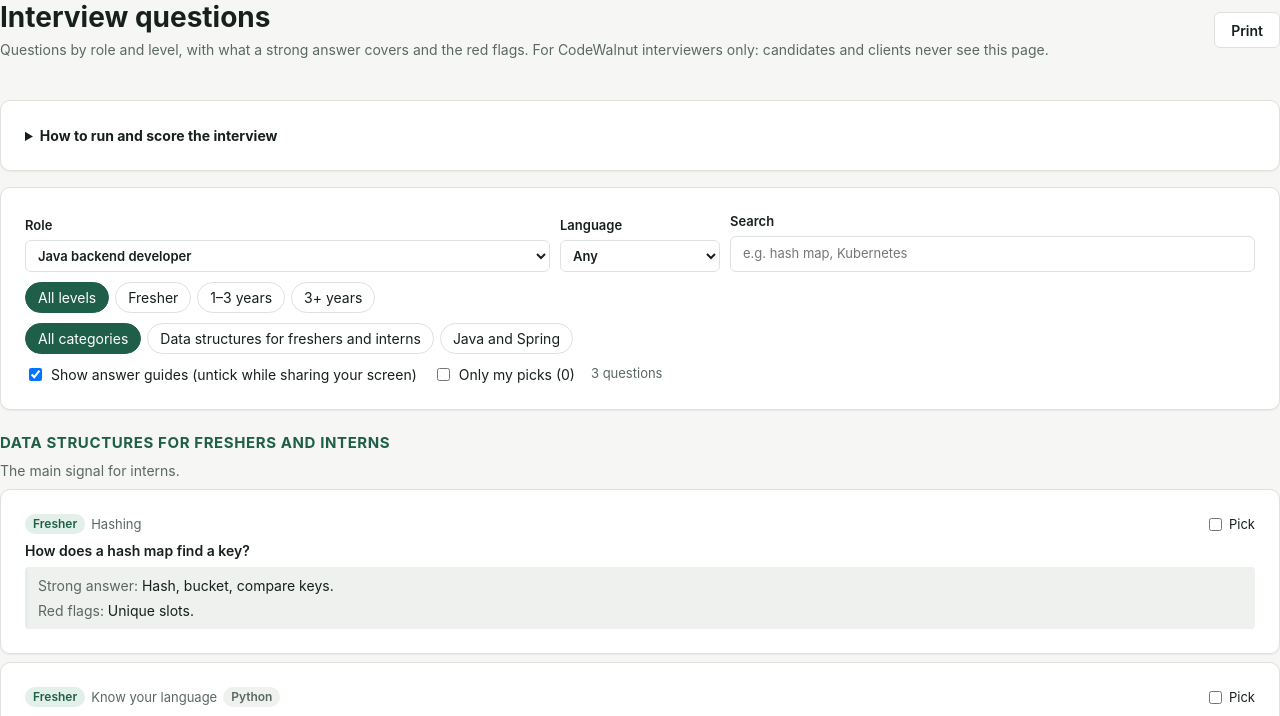
Test: InterviewQuestionsPage (INT-21, INT-22) › filters by role, level and language, hides answer guides and picks questions
Check: the text "How does a hash map find a key?" is shown, box x1=25 y1=542 x2=250 y2=559
Check: the text "Hash, bucket, compare keys." is shown, box x1=142 y1=577 x2=334 y2=594
Step 1. Click the button "Fresher" → [153, 297], box x1=115 y1=282 x2=191 y2=312
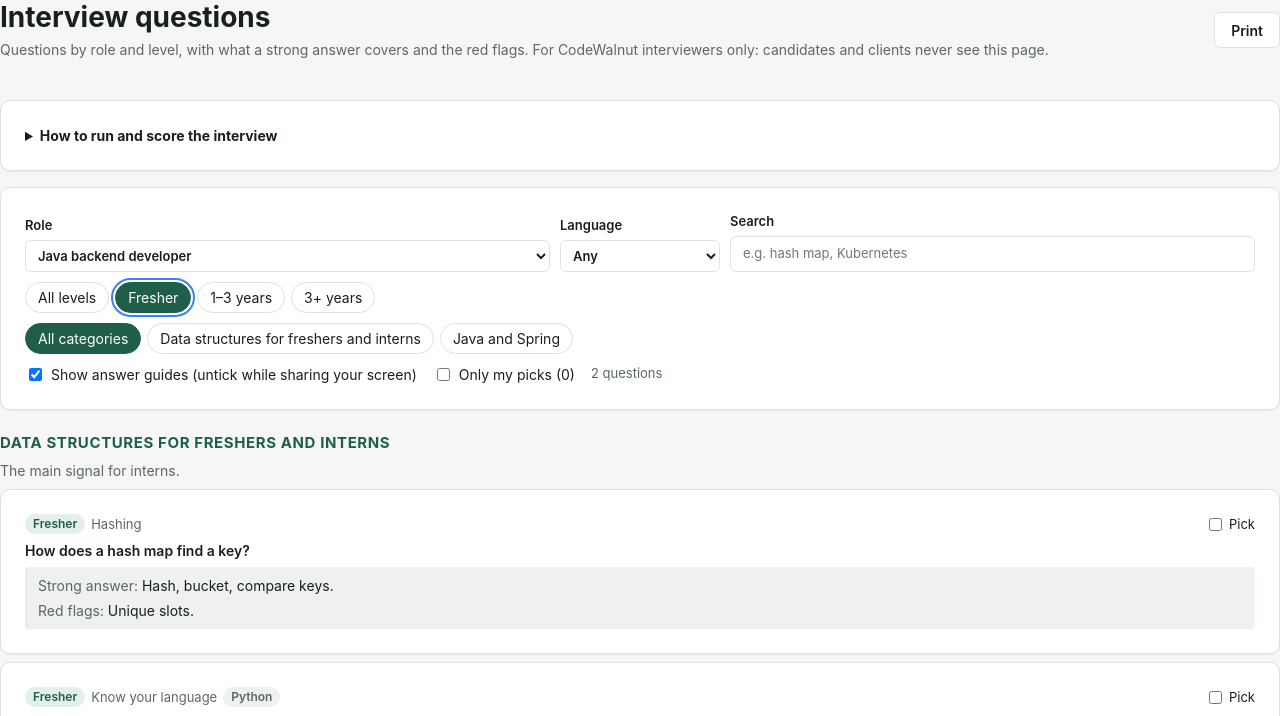
Step 2. Select "Python" in the dropdown labelled "Language" → [640, 256], box x1=560 y1=240 x2=720 y2=272
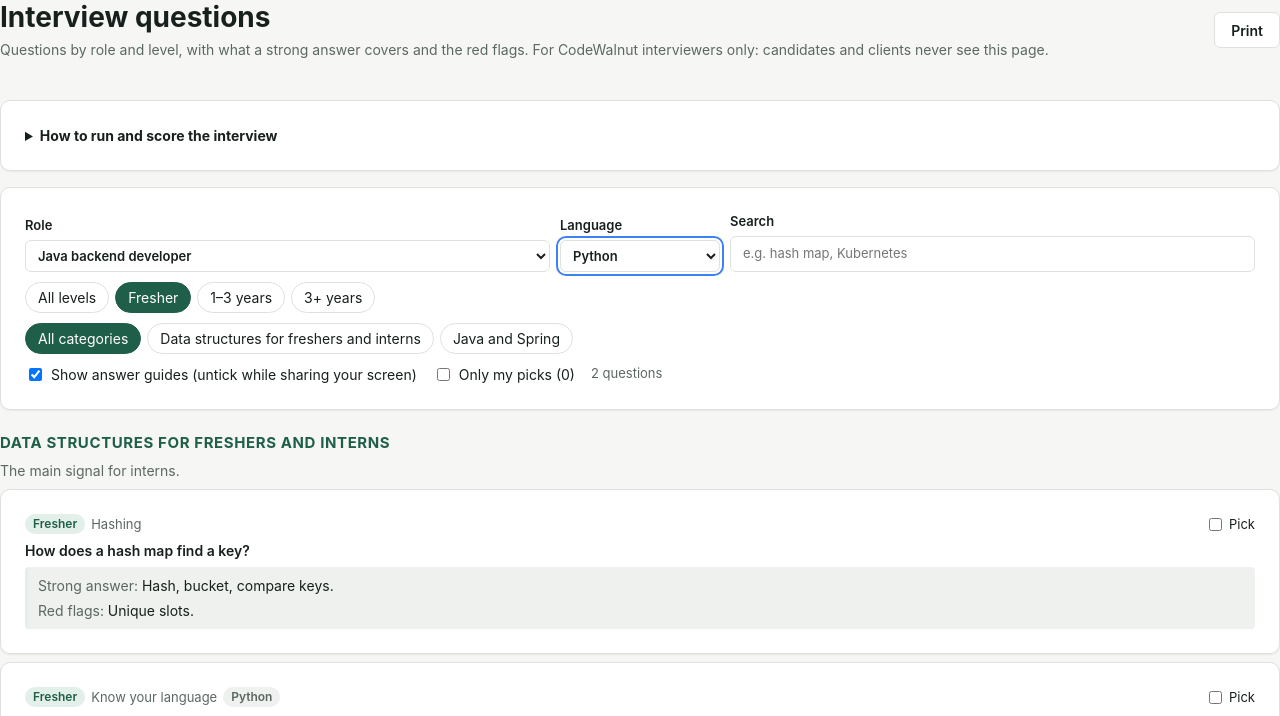
Step 3. Click the checkbox labelled "Show answer guides (untick while sharing your screen)" → [36, 374], box x1=29 y1=368 x2=42 y2=380
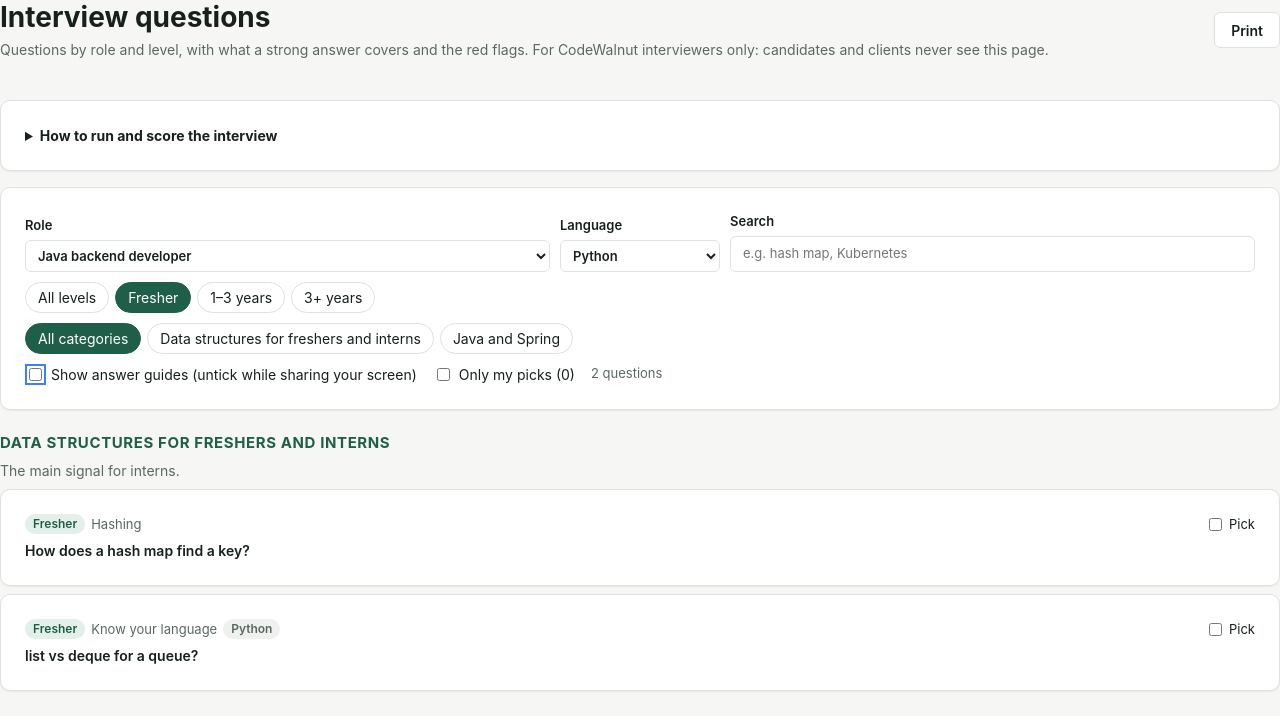
Check: the text "Hash, bucket, compare keys." is gone
Step 4. Click the checkbox named "Pick: list vs deque for a queue?" → [1216, 629], box x1=1209 y1=623 x2=1222 y2=636
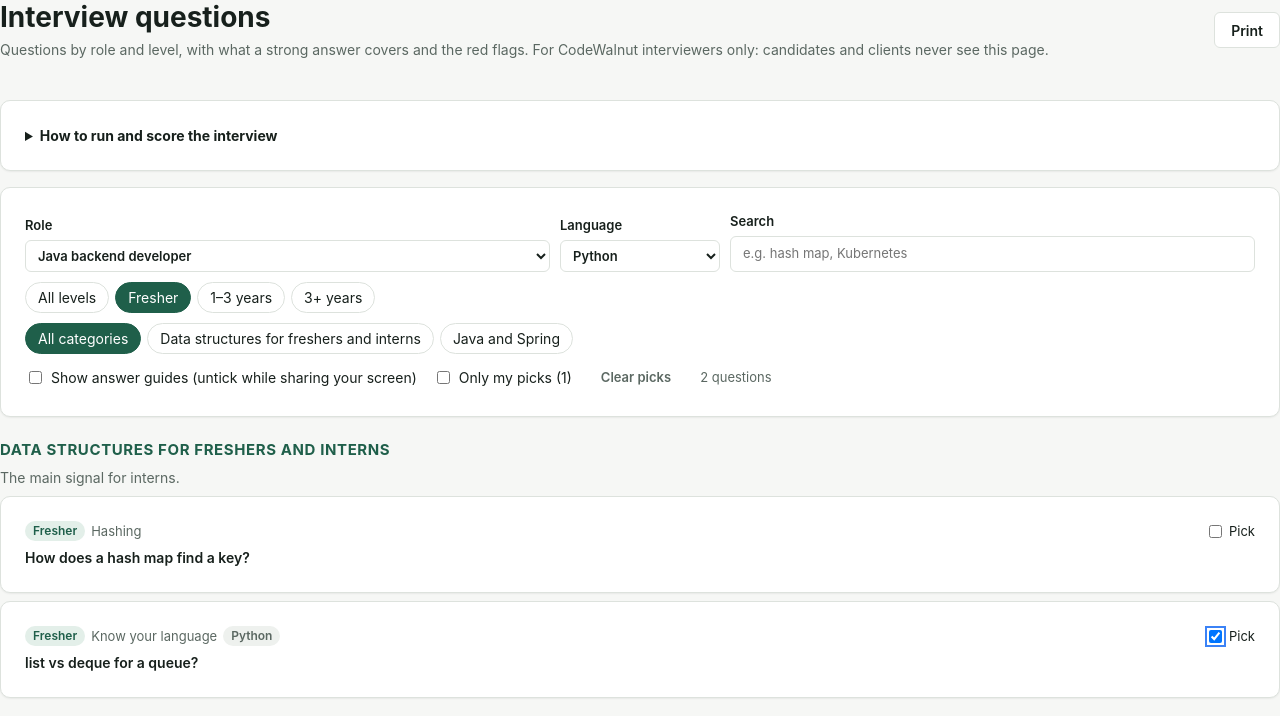
Step 5. Click the checkbox labelled "Only my picks (1)" → [443, 378], box x1=437 y1=371 x2=450 y2=384
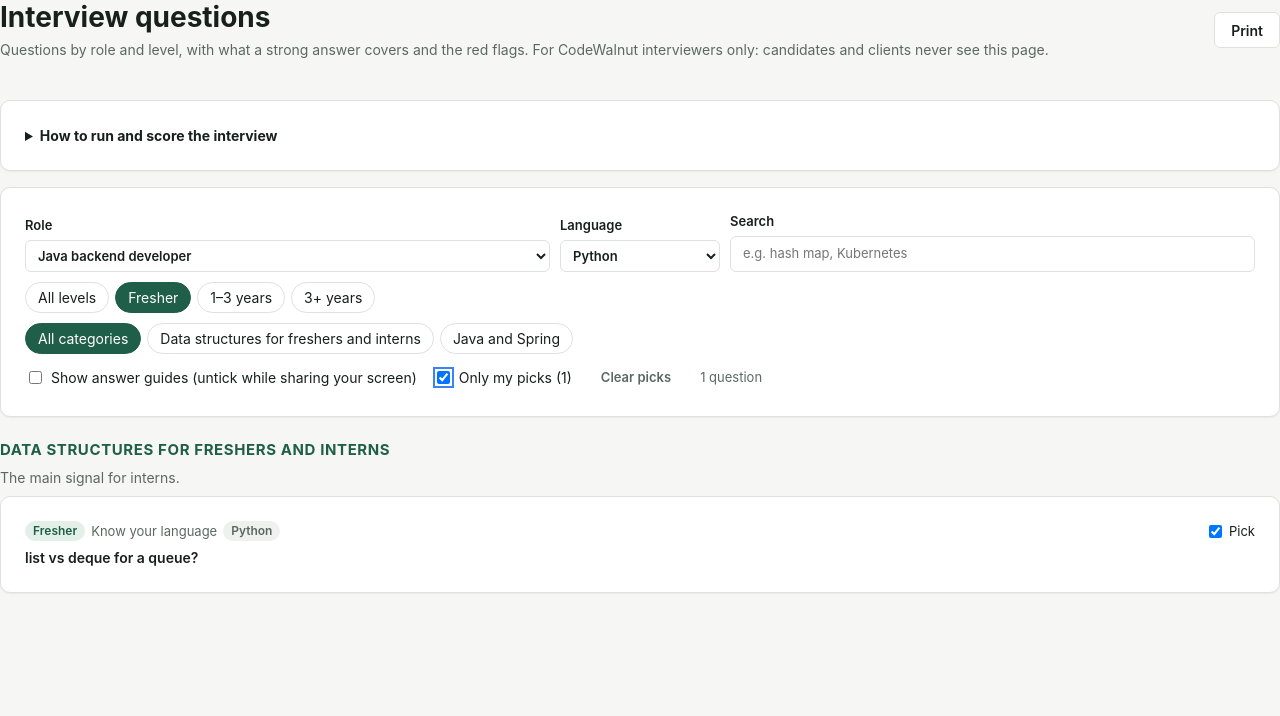
Check: the text "list vs deque for a queue?" is shown, box x1=25 y1=549 x2=198 y2=566
Check: the text "How does a hash map find a key?" is gone
